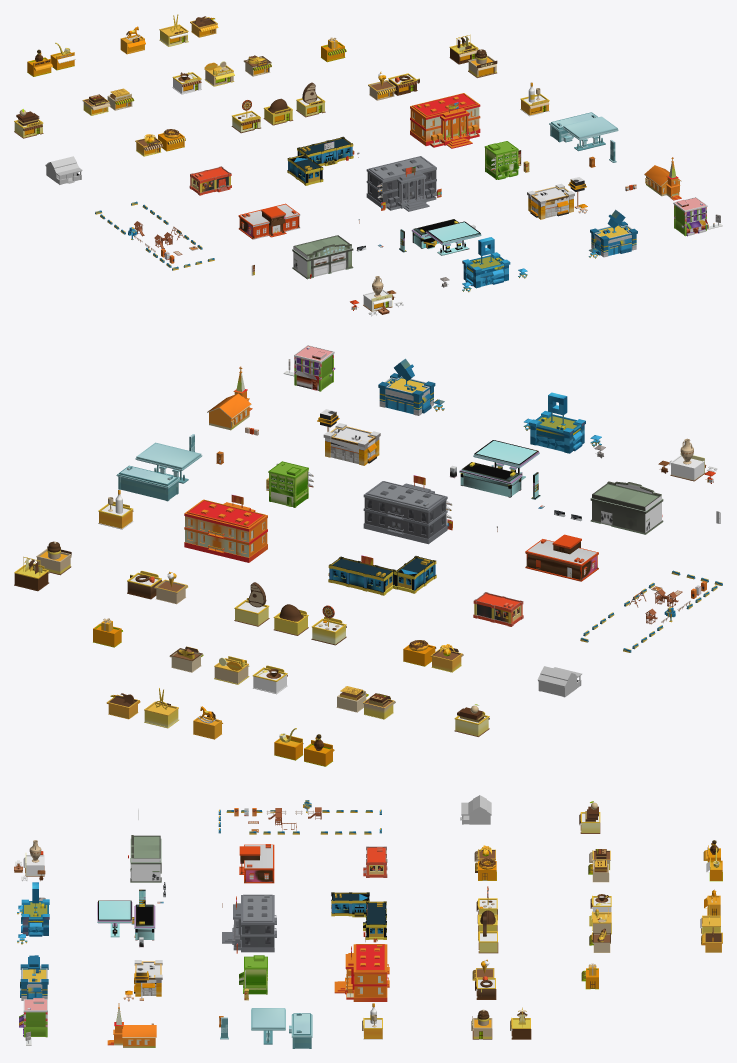
3 renders of one model, top to bottom at view 1: azimuth 30°, elevation 25°; view 2: azimuth 150°, elevation 25°; view 3: azimuth 270°, elevation 25°, orthographic. The views are drawn at different scales.
Parts seen in each view (by area): view 1: town_hall_tan, town_hall_red, fire_station, police_station, donut_shop, icecream_shop, burger_shop_base, shop_classic_blue, shop_classic_red, factory_medium_tan, factory_small_red, church (+18 smaller); view 2: town_hall_tan, town_hall_red, fire_station, police_station, donut_shop, icecream_shop, burger_shop_base, factory_medium_tan, shop_classic_red, shop_classic_blue, petrol_station_base_fuel, petrol_station_base (+23 smaller); view 3: town_hall_tan, town_hall_red, fire_station, police_station, donut_shop, church, icecream_shop, shop_classic_blue, shop_classic_red, factory_small_tan, petrol_station_cover_fuel, factory_medium_tan (+18 smaller).
Boxes of the visible parts, bbox=[...] form: town_hall_tan: bbox=[410, 93, 480, 148]; town_hall_red: bbox=[366, 156, 436, 211]; fire_station: bbox=[292, 235, 353, 279]; police_station: bbox=[238, 203, 300, 239]; donut_shop: bbox=[462, 237, 510, 288]; icecream_shop: bbox=[590, 209, 637, 257]; burger_shop_base: bbox=[527, 183, 574, 219]; shop_classic_blue: bbox=[484, 141, 519, 179]; shop_classic_red: bbox=[673, 197, 707, 236]; factory_medium_tan: bbox=[297, 136, 353, 165]; factory_small_red: bbox=[189, 166, 231, 195]; church: bbox=[644, 157, 681, 200]; town_hall_tan: bbox=[184, 499, 267, 562]; town_hall_red: bbox=[363, 481, 447, 544]; fire_station: bbox=[590, 481, 663, 534]; police_station: bbox=[525, 534, 598, 581]; donut_shop: bbox=[529, 392, 585, 453]; icecream_shop: bbox=[378, 358, 435, 415]; burger_shop_base: bbox=[323, 423, 380, 465]; factory_medium_tan: bbox=[328, 556, 395, 595]; shop_classic_red: bbox=[294, 345, 335, 391]; shop_classic_blue: bbox=[268, 461, 309, 507]; petrol_station_base_fuel: bbox=[459, 462, 522, 497]; petrol_station_base: bbox=[116, 465, 180, 501]; town_hall_tan: bbox=[334, 944, 389, 1001]; town_hall_red: bbox=[222, 894, 276, 952]; fire_station: bbox=[130, 835, 161, 882]; police_station: bbox=[239, 844, 274, 883]; donut_shop: bbox=[21, 882, 49, 936]; church: bbox=[107, 1003, 156, 1047]; icecream_shop: bbox=[20, 955, 48, 1000]; shop_classic_blue: bbox=[239, 955, 267, 994]; shop_classic_red: bbox=[19, 998, 47, 1037]; factory_small_tan: bbox=[331, 892, 369, 917]; petrol_station_cover_fuel: bbox=[97, 900, 132, 930]; factory_medium_tan: bbox=[363, 901, 386, 939].
Bounding box in the file's own units: 9452 × 11881 × 778.
